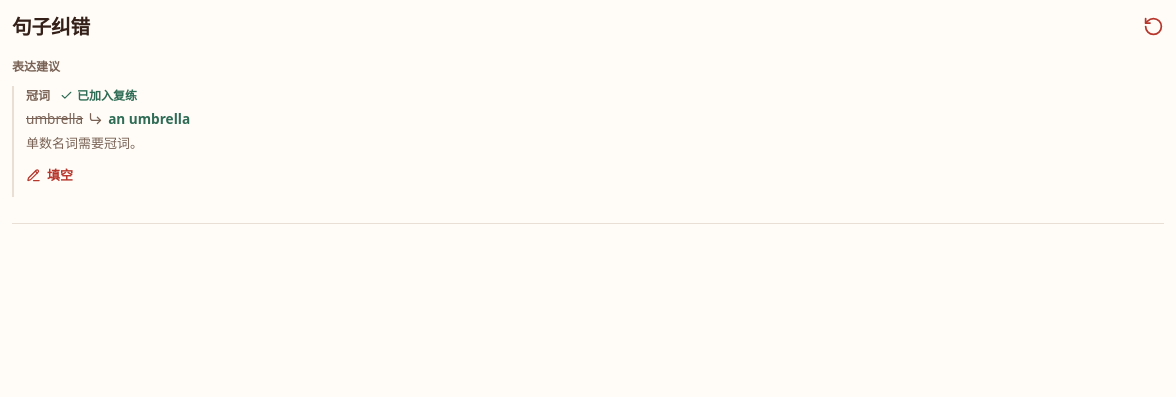
offers a labeled cloze on a historical correction with no matching learner turn
Click the button "填空": (50, 176) [26,154,73,198]
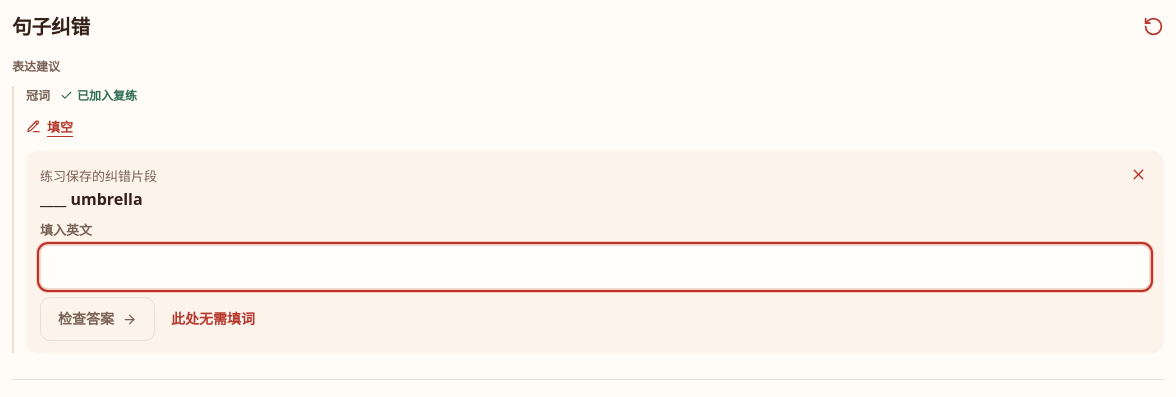
Now the text "练习保存的纠错片段" is shown, box [40,167,157,185]
Now the text "____ umbrella" is shown, box [40,188,143,210]
